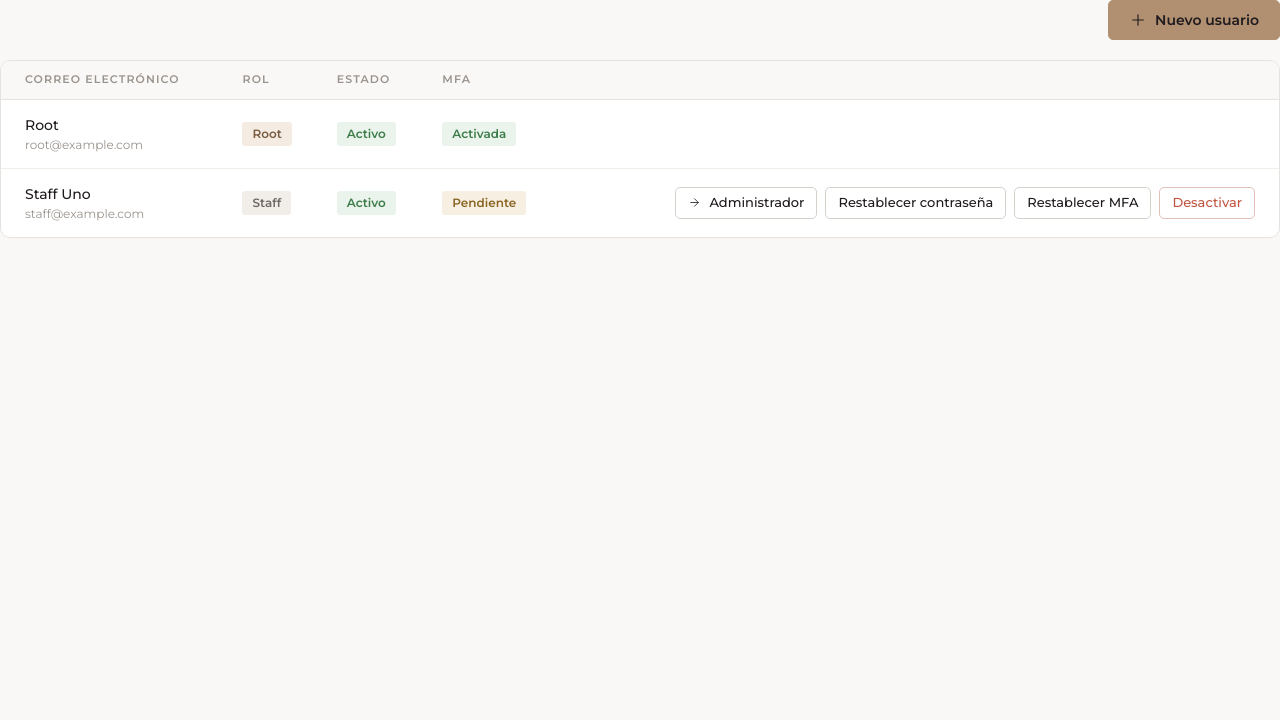
it: TeamPage (root-only team management) › creates a user and reveals the one-time temp password
Expected: the text "root@example.com" is shown, 25,137 -> 143,152
Click the button "Nuevo usuario" at (1194, 20), box 1108,0 -> 1279,40
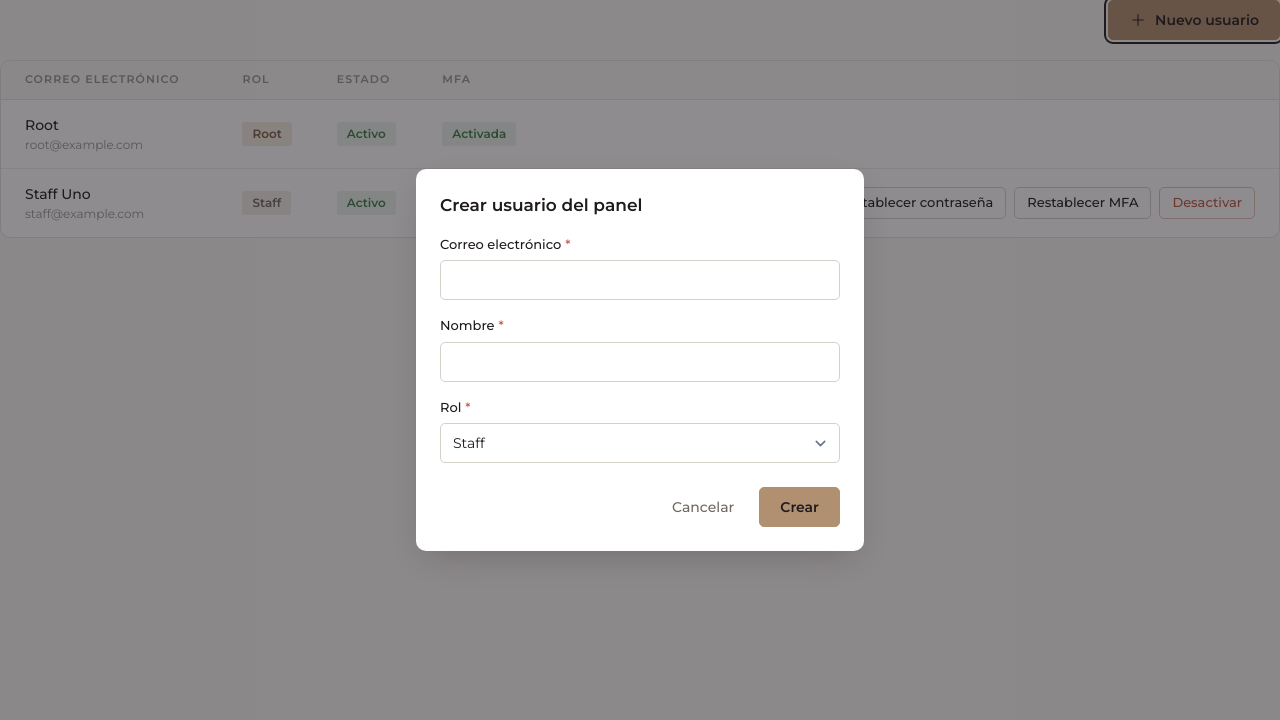
Type "nuevo@example.com" into the field labelled "Correo electrónico*" at (640, 280), box 440,260 -> 840,300
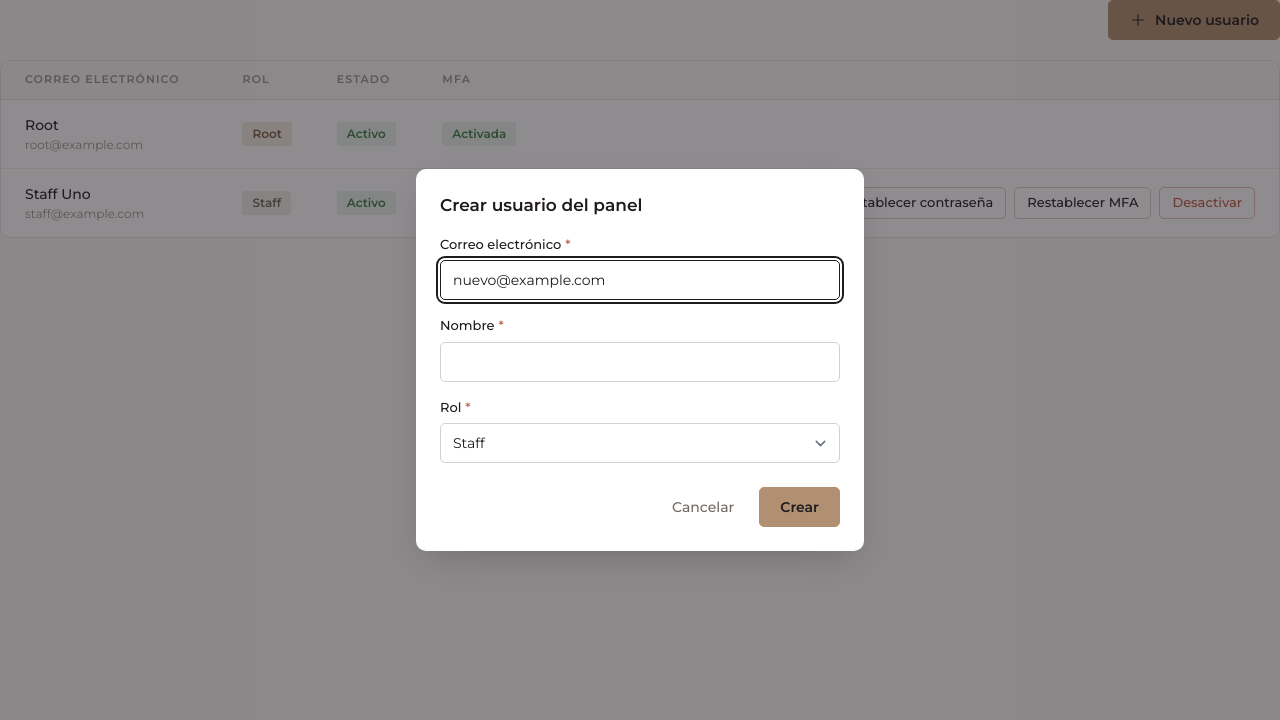
Type "Nueva Persona" into the field labelled "Nombre*" at (640, 362), box 440,342 -> 840,382
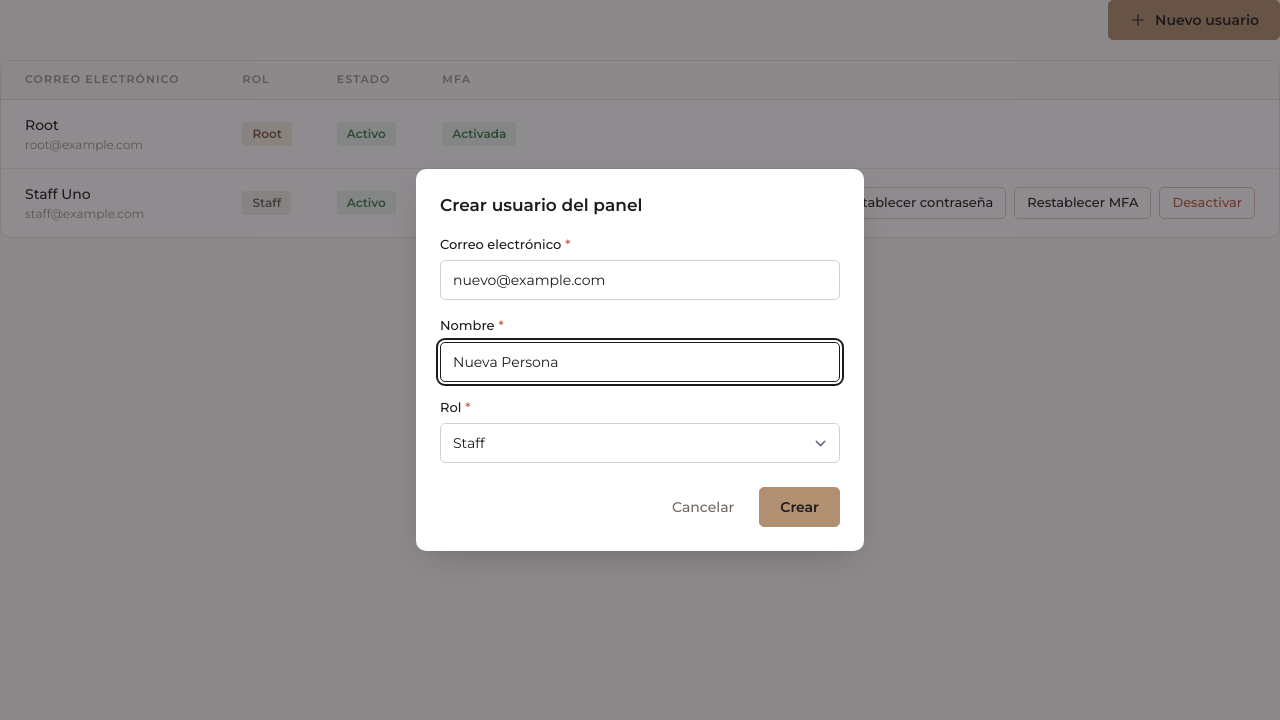
Click the button "Crear" at (800, 507), box 759,487 -> 840,527
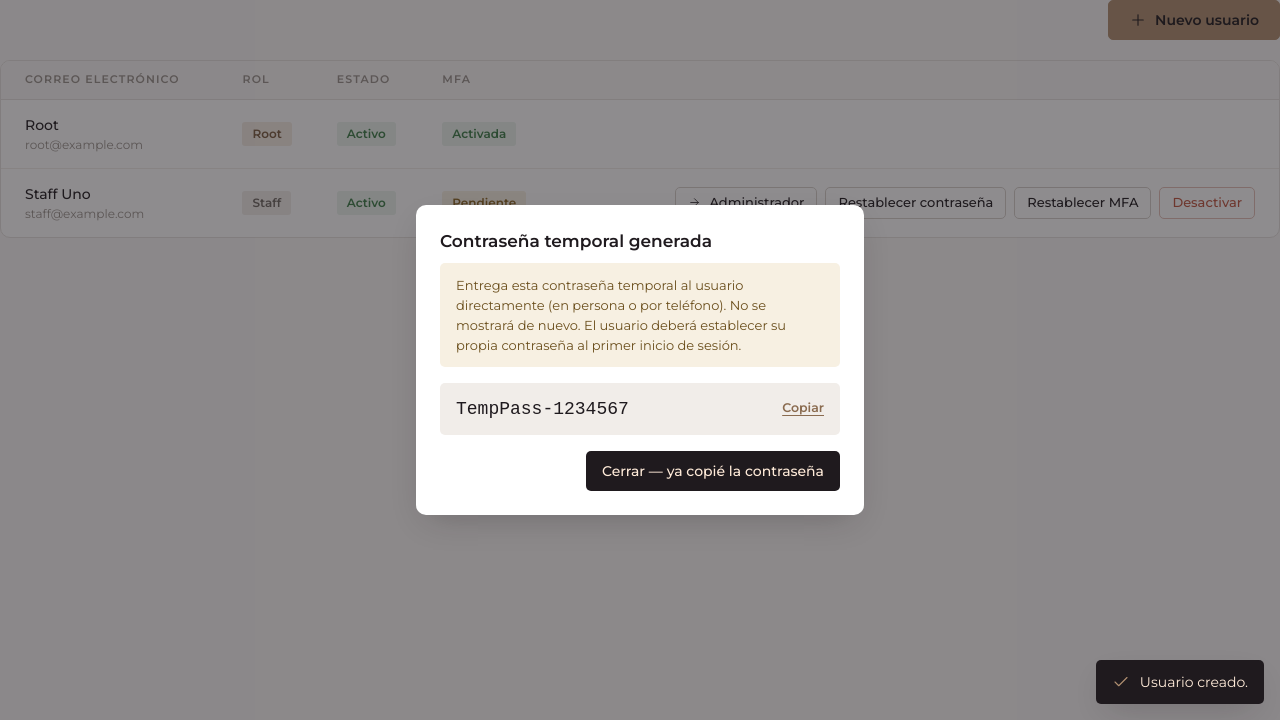
Now the text "TempPass-1234567" is shown, box 456,399 -> 629,419
